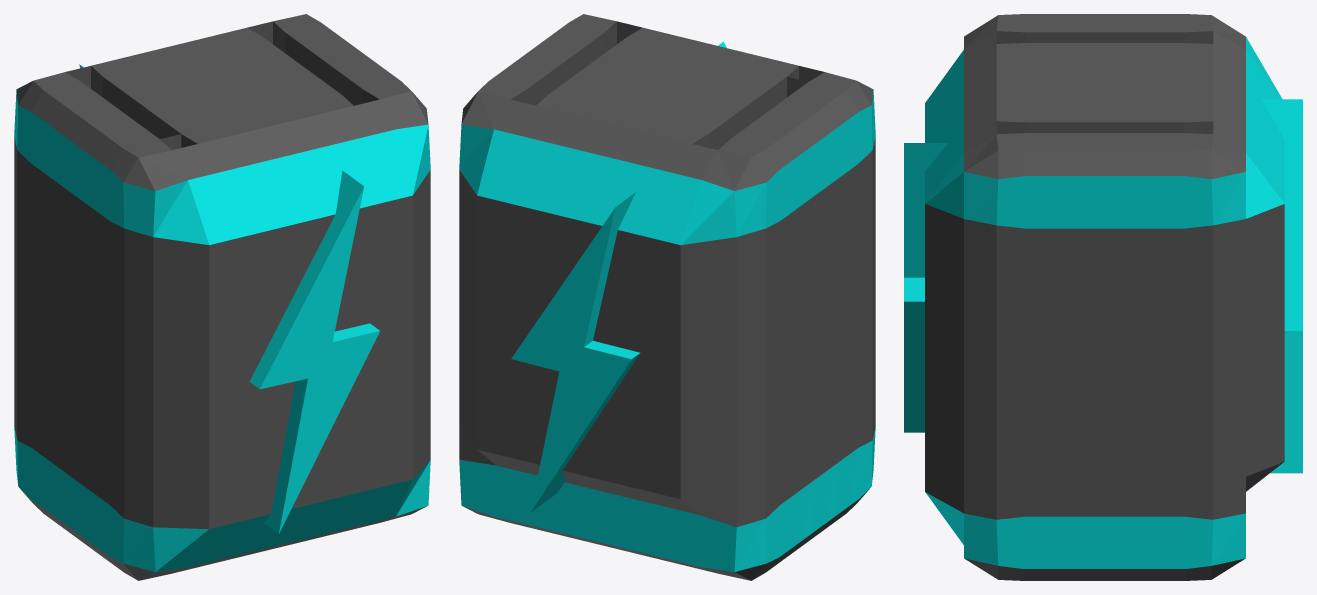
File: Kandenti.fbx
3 views of the same model, side by side, from view 1: azimuth 30°, elevation 25°; view 2: azimuth 150°, elevation 25°; view 3: azimuth 270°, elevation 25° (orthographic).
Visible parts, largest first — view 1: pCube1, pCube5; view 2: pCube1, pCube6; view 3: pCube1, pCube6, pCube5.
Part boxes in pixels (x1=…): pCube1: x1=14, y1=14, x2=430, y2=580; pCube5: x1=249, y1=170, x2=379, y2=533; pCube1: x1=459, y1=14, x2=875, y2=580; pCube6: x1=511, y1=192, x2=640, y2=512; pCube1: x1=925, y1=14, x2=1284, y2=580; pCube6: x1=1261, y1=99, x2=1302, y2=473; pCube5: x1=904, y1=143, x2=947, y2=432.
Size of the model in its own units: 1.5 by 2 by 1.68.
